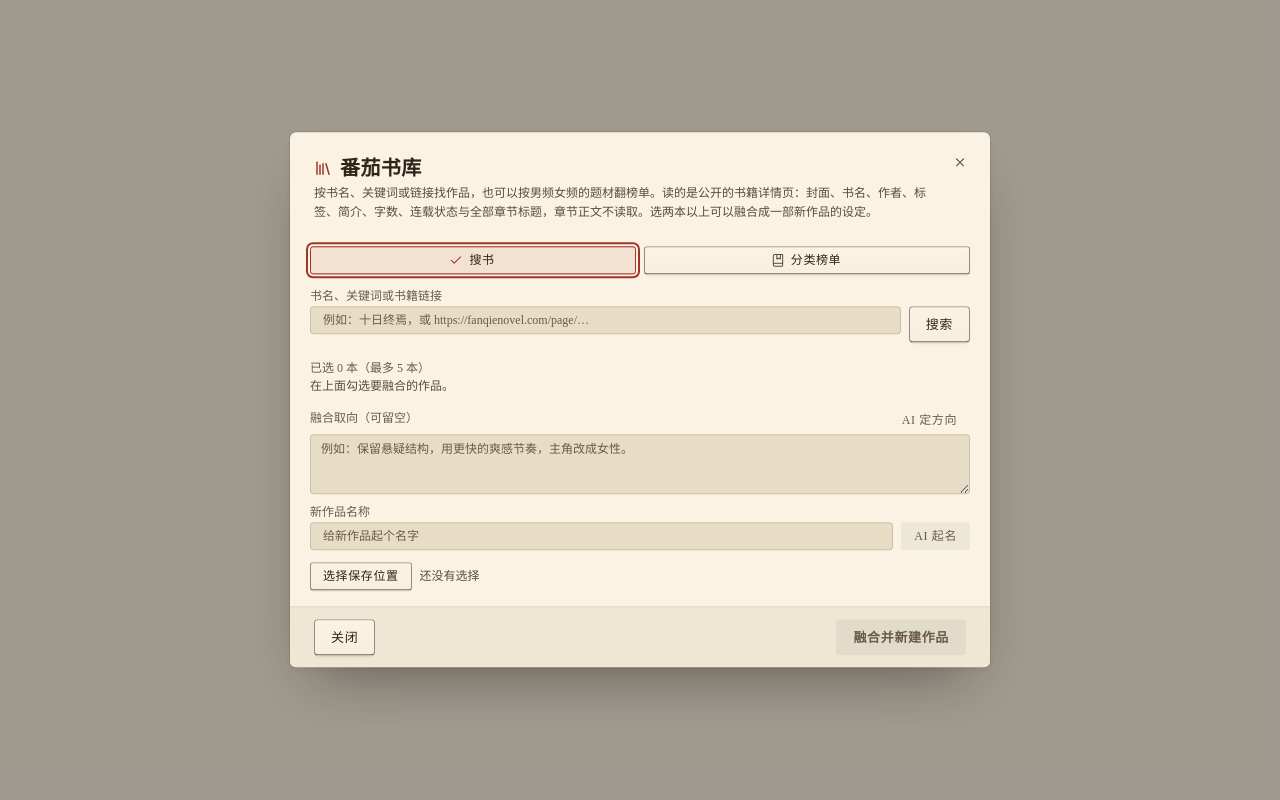
Scenario: 番茄书库 › 帮我配一单：一键选好参考作品并说明为什么这么配
This screenshot has width=1280, height=800.
Type "十日终焉" into the field labelled "书名、关键词或书籍链接" at (605, 321), box [310, 307, 901, 335]
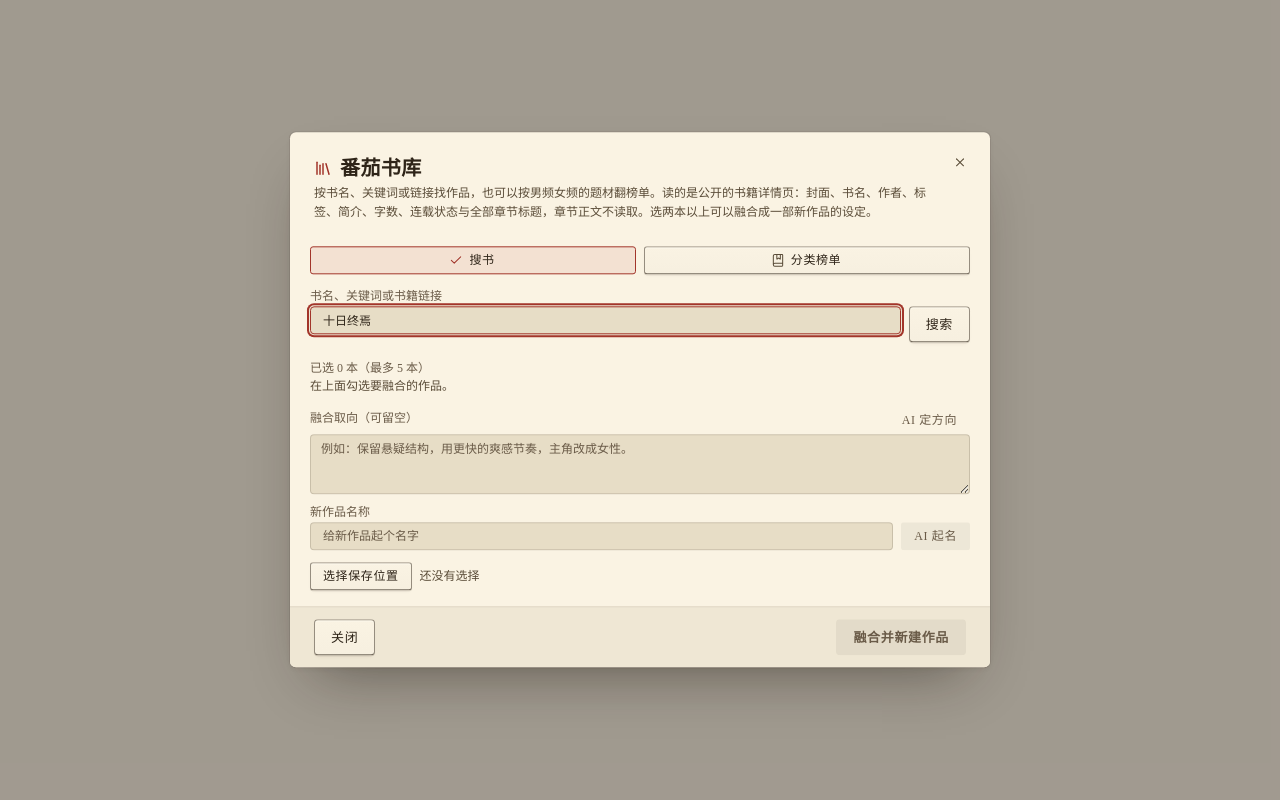
Click the button "搜索" at (939, 325), box [909, 307, 970, 343]
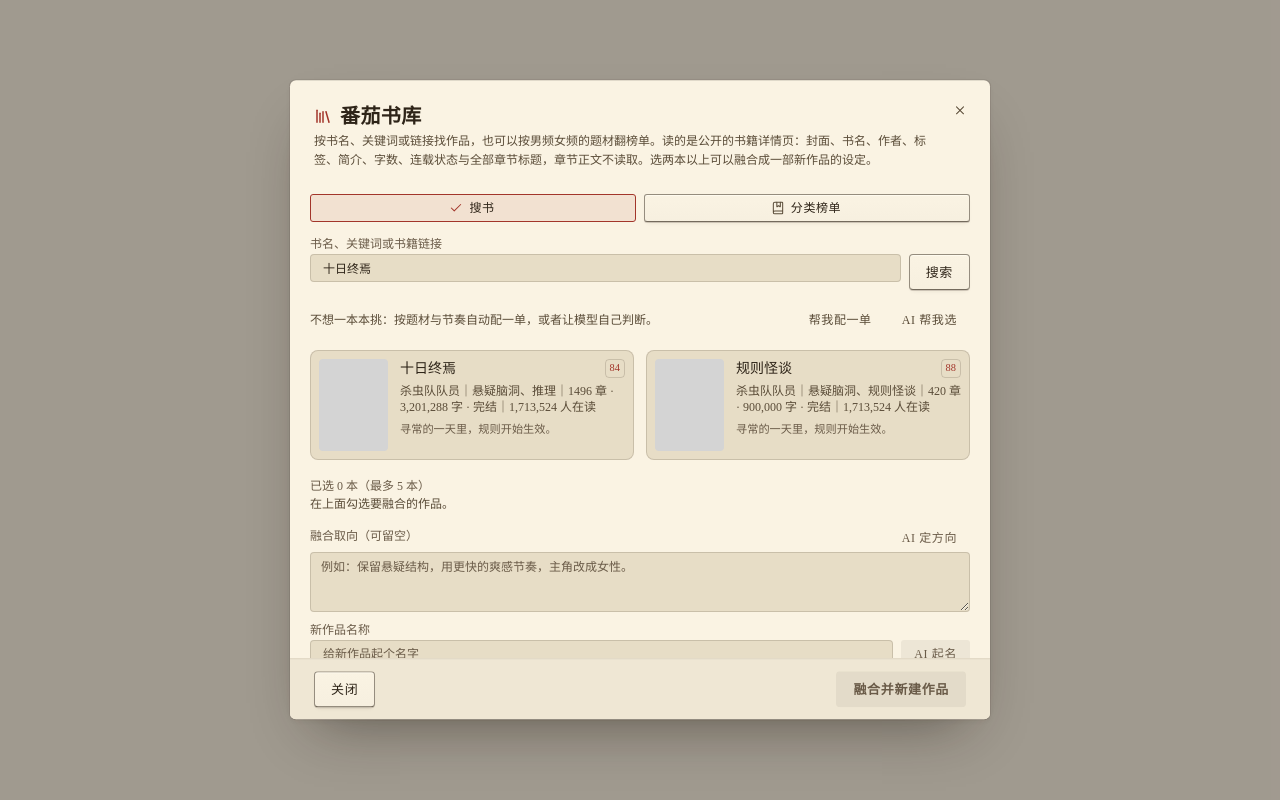
Click the button "帮我配一单" at (840, 321), box [796, 307, 885, 335]
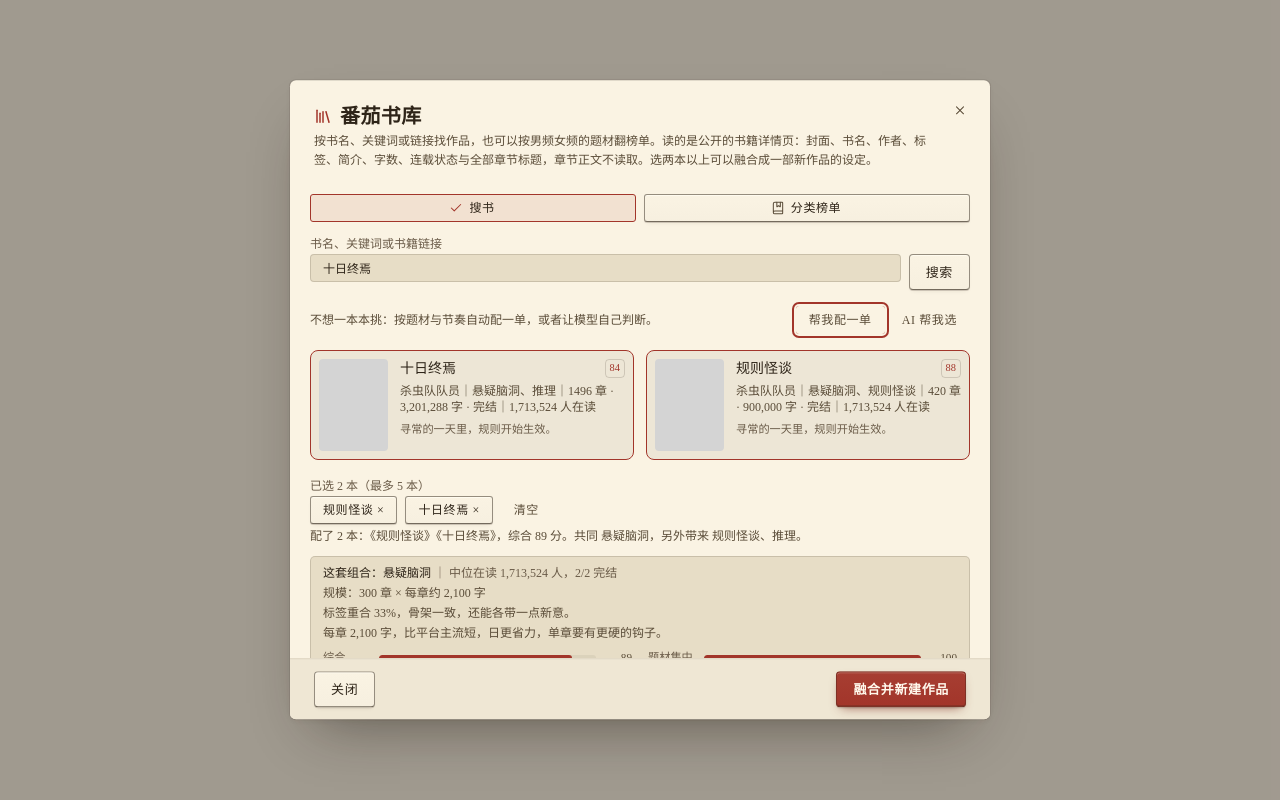
Expected: the text "已选 2 本（最多 5 本）" is shown, [310, 480, 430, 494]
Expected: the text "配了 2 本：《规则怪谈》《十日终焉》，综合 89 分。共同 悬疑脑洞，另外带来 规则怪谈、推理。" is shown, [310, 530, 808, 544]
Expected: the button "融合并新建作品" is enabled, [836, 672, 966, 708]
手动改选之后，上一单的说明不再挂着。
Click the text "规则怪谈" at (764, 369), box [736, 362, 792, 377]
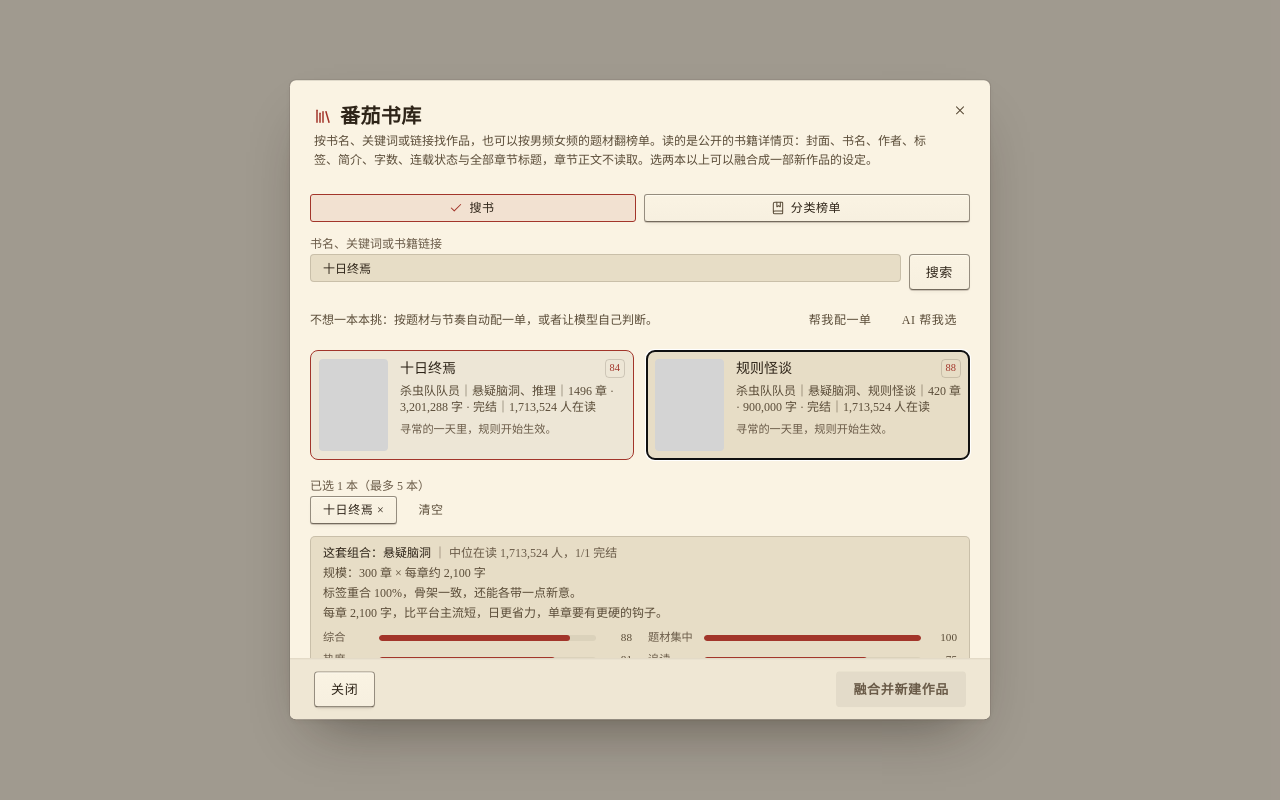
Expected: the text "已选 1 本（最多 5 本）" is shown, [310, 480, 430, 494]
Expected: the text "配了 2 本" is gone
